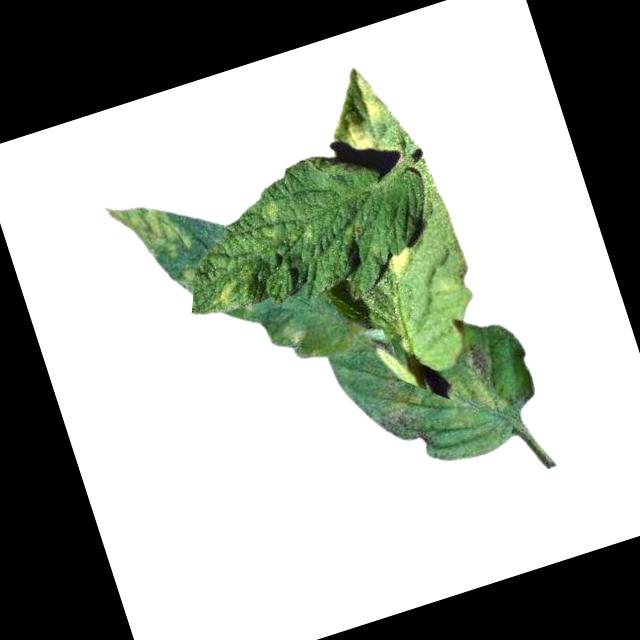Leaf_Mold: (100, 182, 193, 273), (437, 334, 510, 424), (353, 69, 390, 127), (383, 244, 420, 283), (207, 276, 244, 312), (341, 121, 374, 160), (251, 197, 284, 227)
